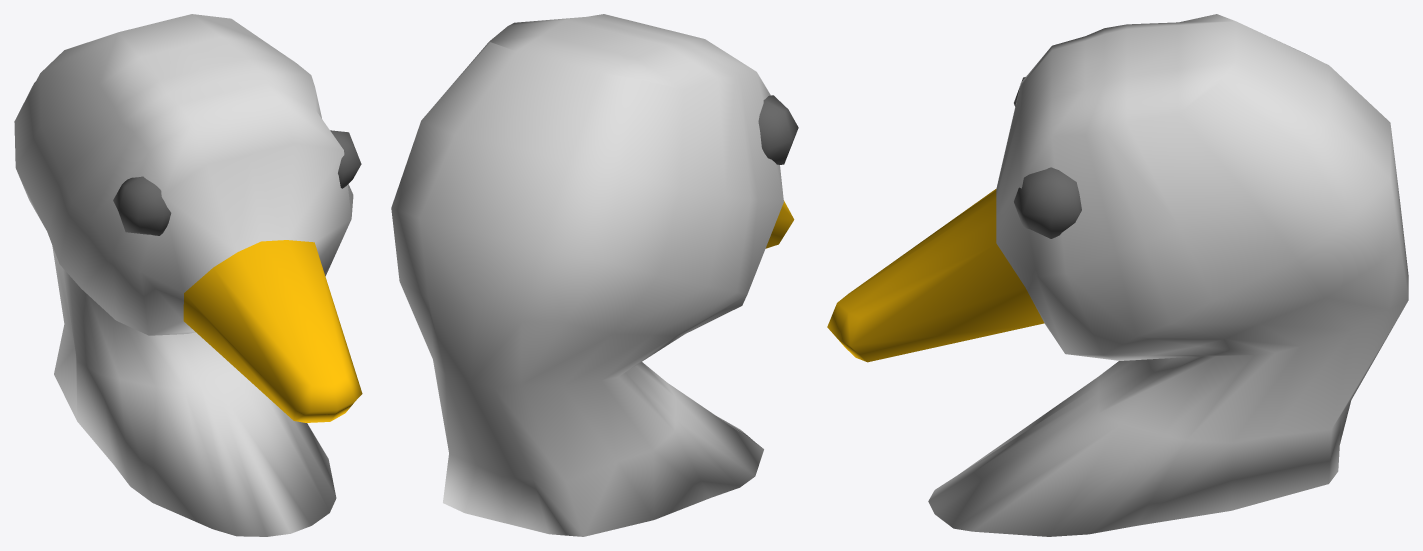
Rendered from Header.fbx.
3 views of the same model, side by side, from view 1: azimuth 30°, elevation 25°; view 2: azimuth 150°, elevation 25°; view 3: azimuth 270°, elevation 25° (orthographic). The views are drawn at different scales.
Visible parts, largest first — view 1: pCube10.002; view 2: pCube10.002; view 3: pCube10.002.
Boxes of the visible parts, box(x1,y1,x2,y2) form: pCube10.002: box(14, 14, 362, 536); pCube10.002: box(391, 14, 798, 536); pCube10.002: box(827, 14, 1408, 536).
Bounding box in the file's own units: 0.8079 × 1.25 × 1.43.
